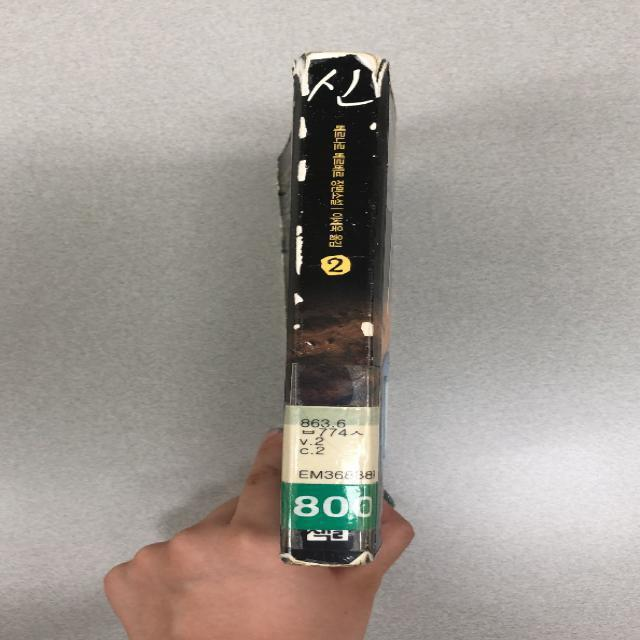Ripped: (286, 50, 315, 98), (364, 52, 393, 100)
Wornout: (270, 552, 379, 573), (312, 48, 373, 71), (291, 222, 311, 277), (293, 154, 313, 184), (292, 114, 312, 141), (358, 319, 378, 338), (290, 291, 310, 306), (364, 119, 381, 134), (289, 320, 304, 332)
